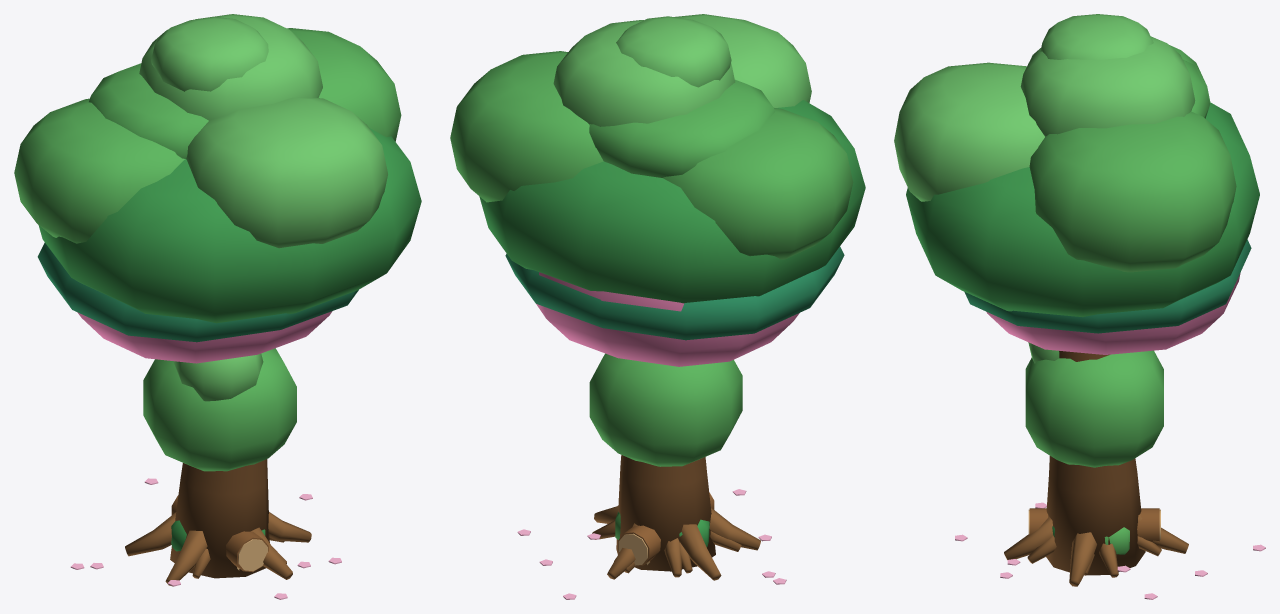
The model's file is bosque-props.glb.
The picture shows the model from 3 angles, left to right: view 1: azimuth 30°, elevation 25°; view 2: azimuth 150°, elevation 25°; view 3: azimuth 270°, elevation 25°; orthographic projection.
Parts seen in each view (by area): view 1: arvore-grande-a, arvore-grande-b, arvore-media, arvore-grande-c, tora; view 2: arvore-grande-a, arvore-grande-b, arvore-media, arvore-grande-c, tora; view 3: arvore-grande-a, arvore-media, arvore-grande-b, arvore-grande-c, tora.
Boxes of the visible parts, x1,y1,x2,y2 form: arvore-grande-a: (14,14,421,586); arvore-grande-b: (37,17,358,563); arvore-media: (143,348,296,471); arvore-grande-c: (70,311,341,599); tora: (171,495,268,572); arvore-grande-a: (450,14,865,580); arvore-grande-b: (505,16,844,577); arvore-media: (589,353,742,466); arvore-grande-c: (517,272,799,599); tora: (618,492,714,566); arvore-grande-a: (894,36,1259,586); arvore-media: (1025,342,1163,467); arvore-grande-b: (964,14,1251,577); arvore-grande-c: (955,273,1265,599); tora: (1028,508,1160,541).
Size of the model in its own units: 7 by 9.84 by 6.3.
